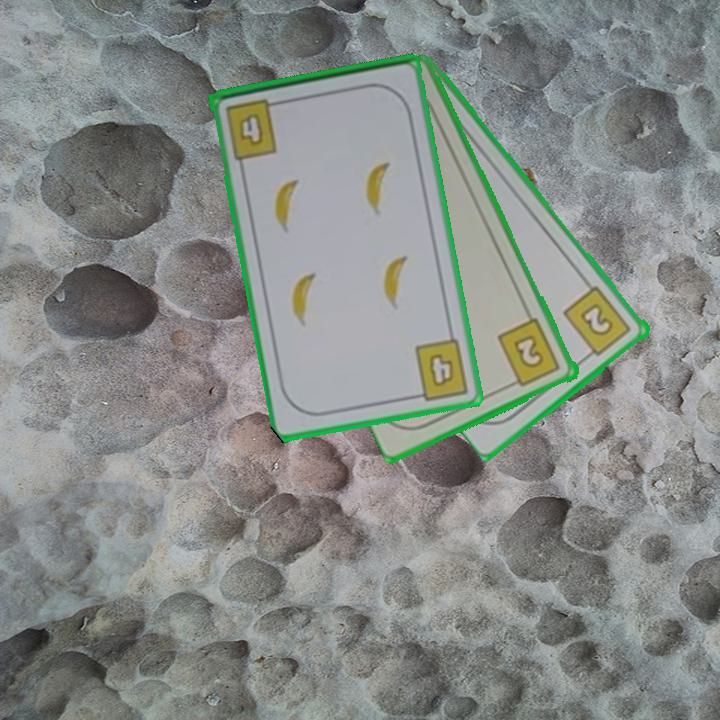2b: (560, 282, 635, 362), (494, 315, 564, 390)
4b: (408, 335, 472, 403), (221, 95, 285, 162)
